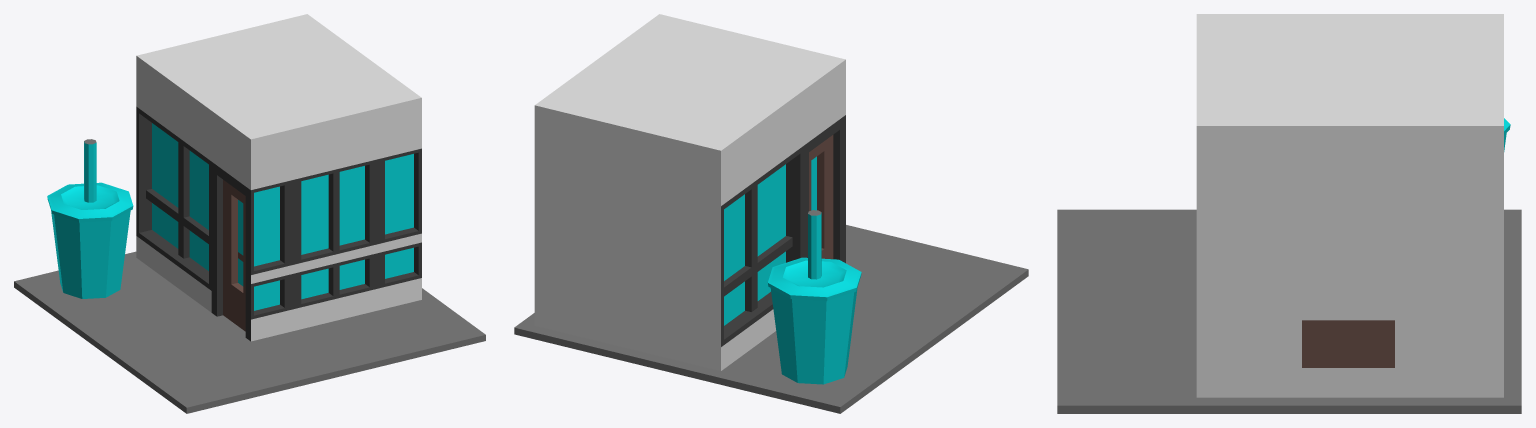
Rendered from bobaTea.fbx.
3 renders of one model, left to right at view 1: azimuth 30°, elevation 25°; view 2: azimuth 150°, elevation 25°; view 3: azimuth 270°, elevation 25°, orthographic. The views are drawn at different scales.
Visible parts, largest first — view 1: pCube71; view 2: pCube71; view 3: pCube71.
Boxes of the visible parts, box(x1,y1,x2,y2) form: pCube71: box(14, 14, 485, 413); pCube71: box(514, 14, 1028, 413); pCube71: box(1057, 14, 1521, 413).
Bounding box in the file's own units: 140 × 93.26 × 140.
